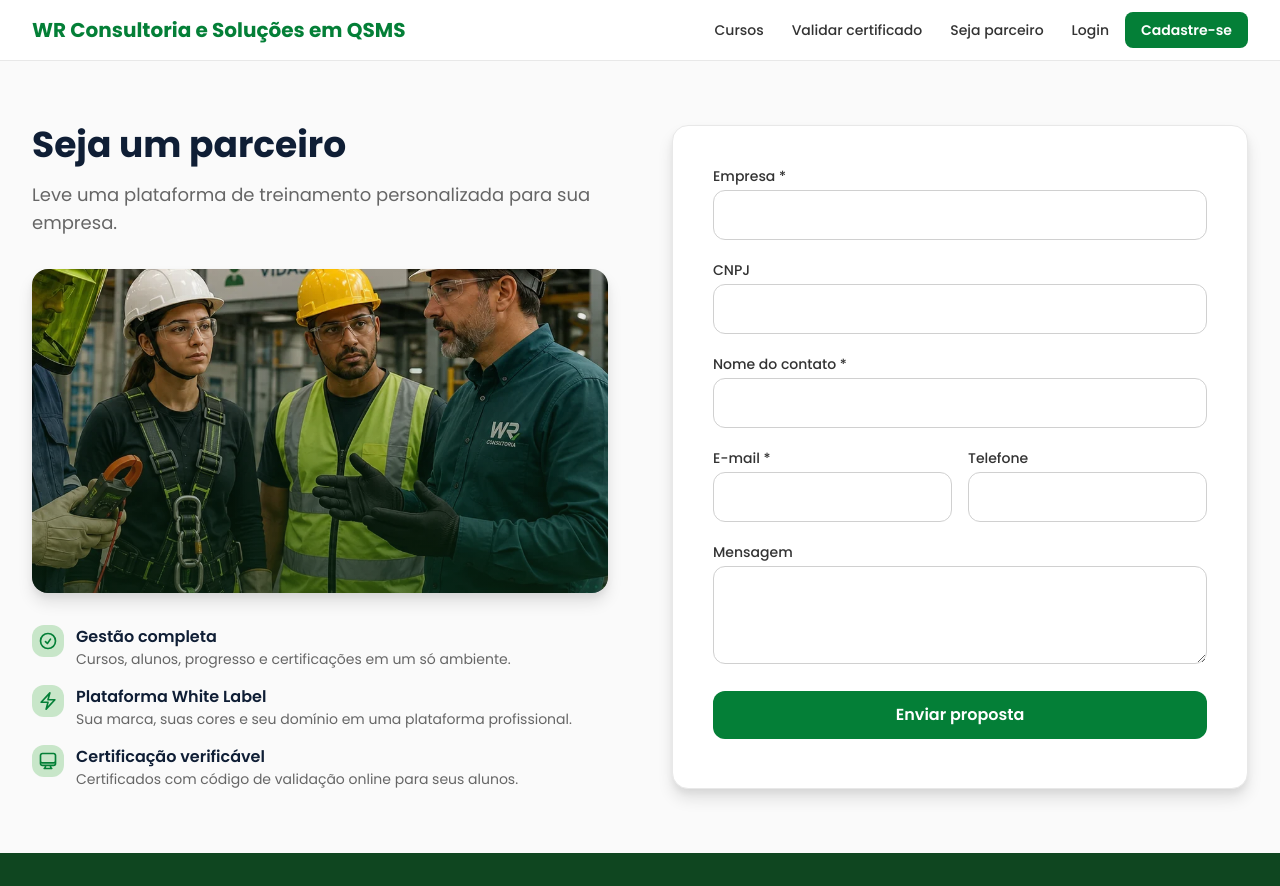
Test: Partner › shows error on server failure
Type "TestCo" into the field with test id "partner-company-input".
click(960, 215); type("TestCo")  # box [713,190,1207,240]
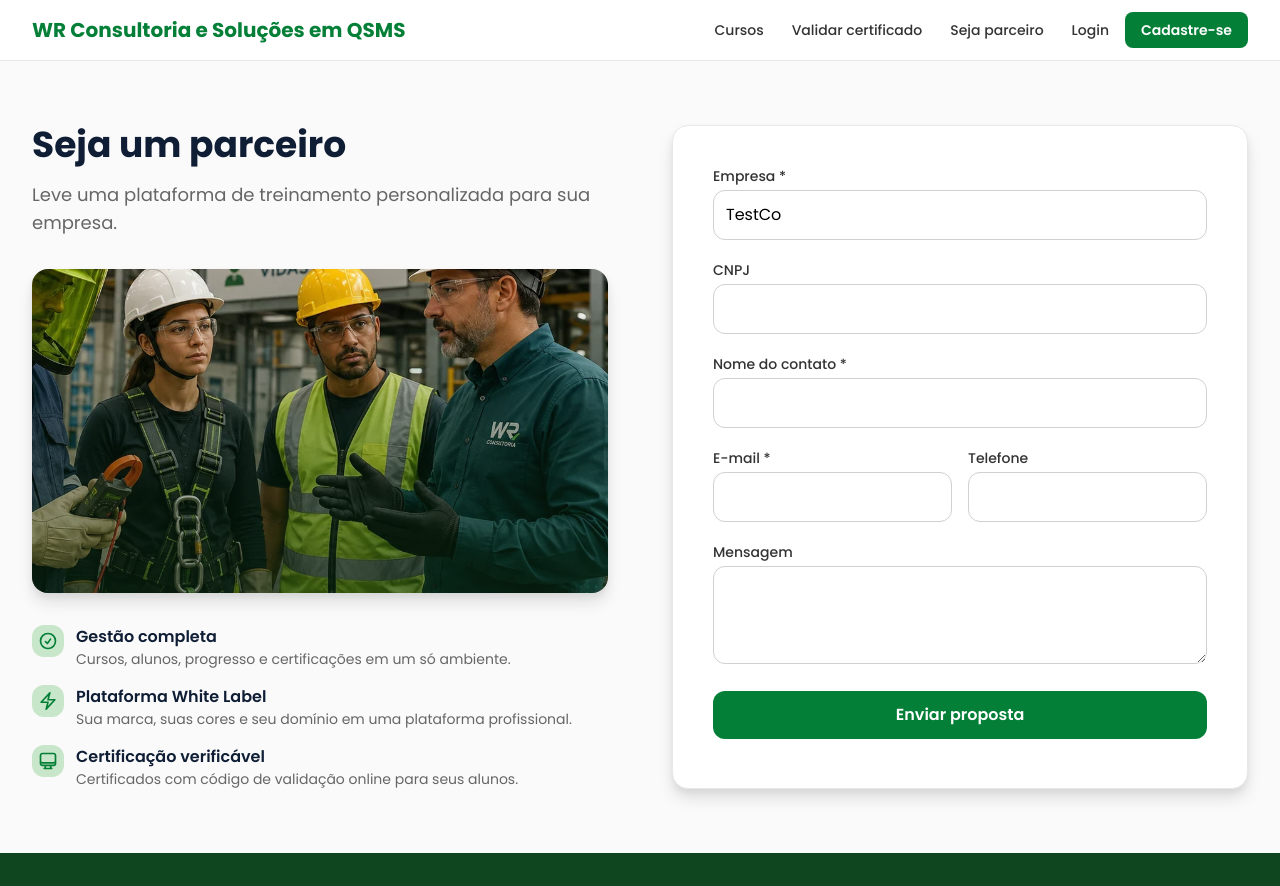
Type "John" into the field with test id "partner-contact-name-input".
click(960, 403); type("John")  # box [713,378,1207,428]
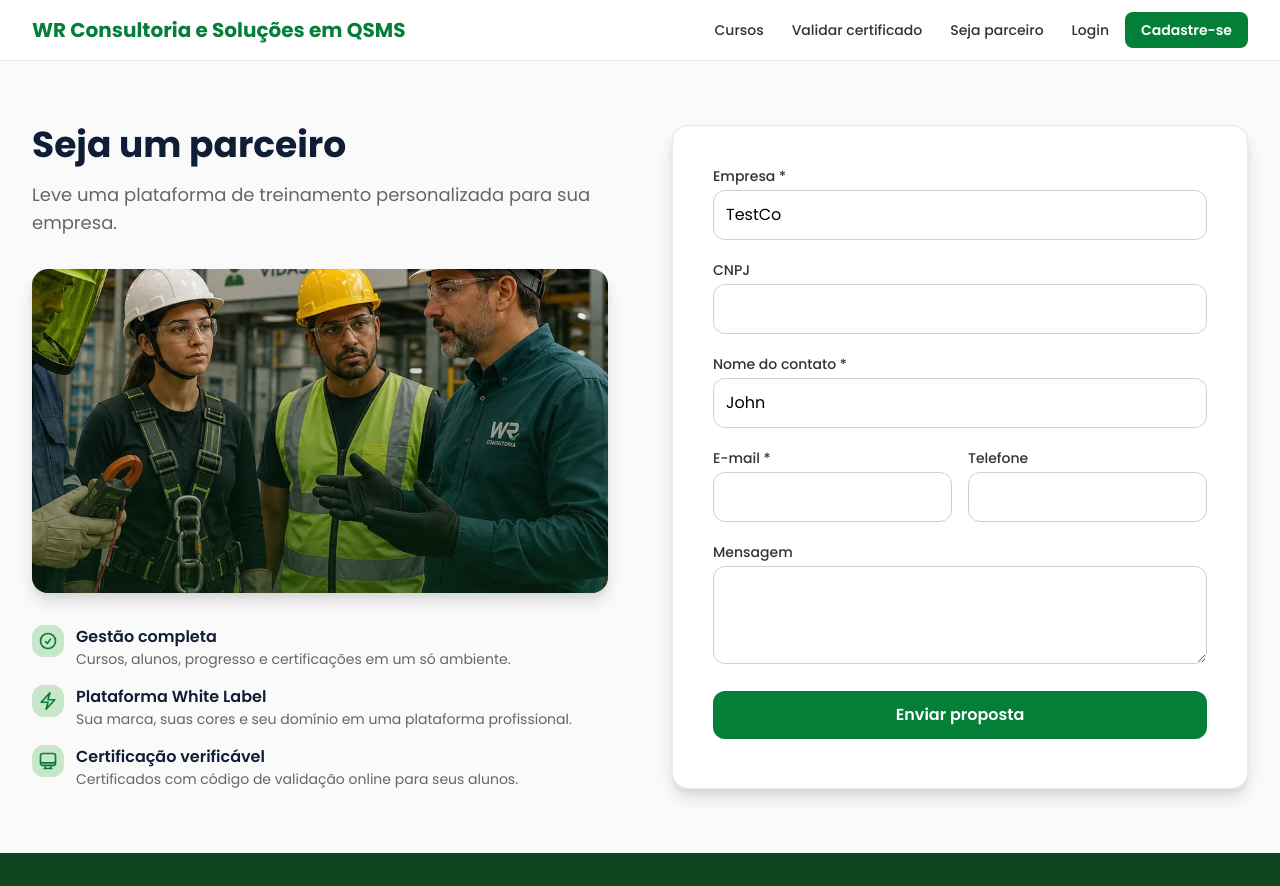
Type "john@test.co" into the field with test id "partner-email-input".
click(832, 497); type("john@test.co")  # box [713,472,952,522]
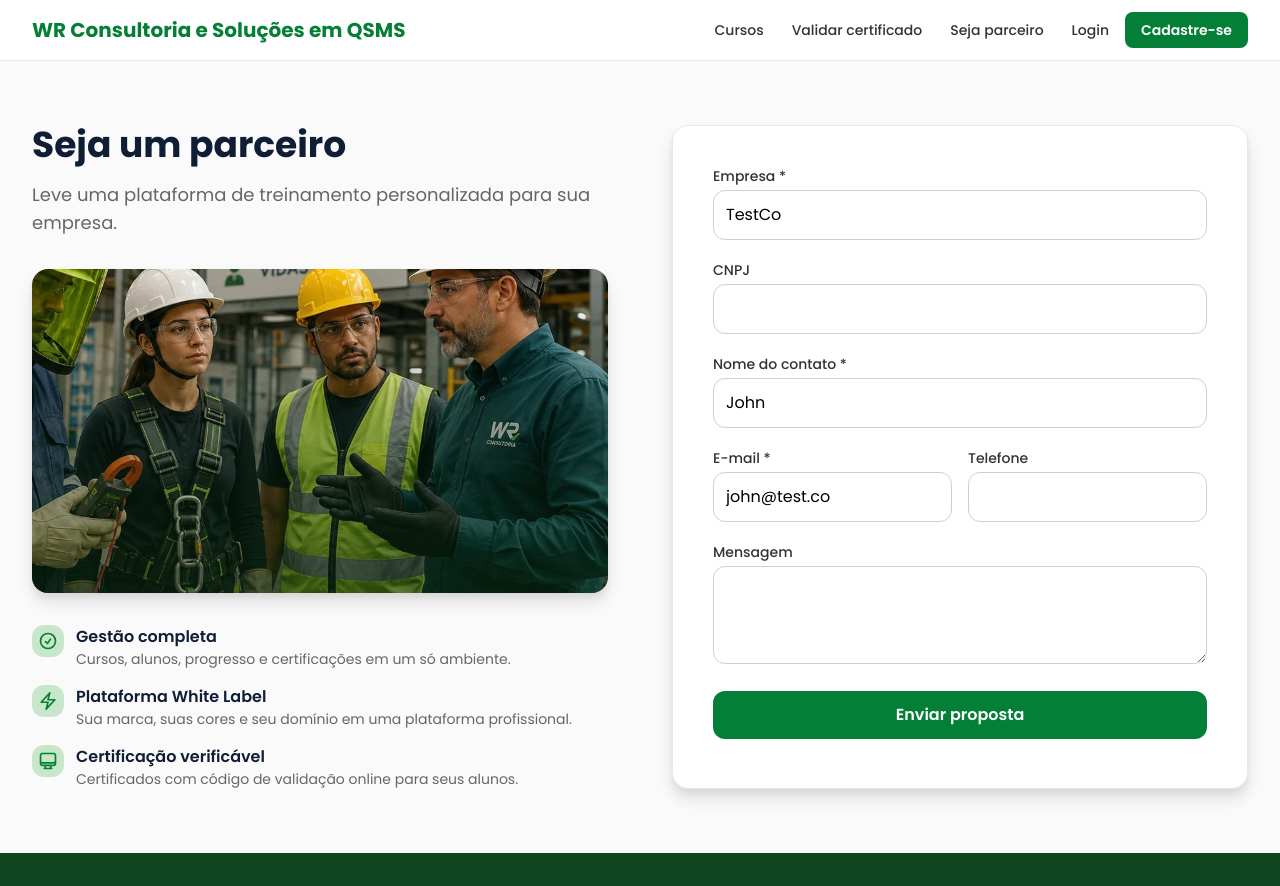
Submit the form, box [713,166,1207,739]
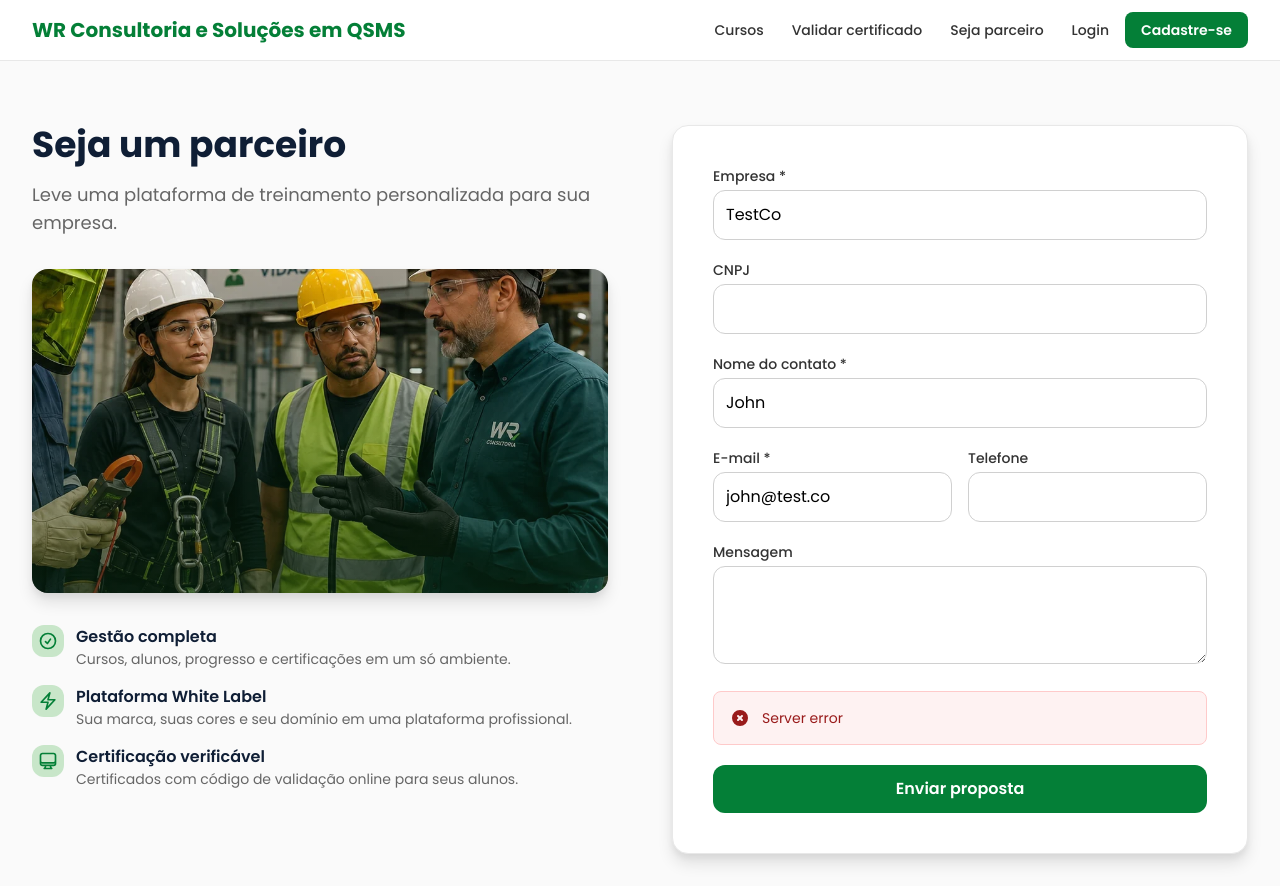
Expected: the message "Server error" is shown, [713,691,1207,745]
Expected: the text "Server error" is shown, [762,708,843,728]
